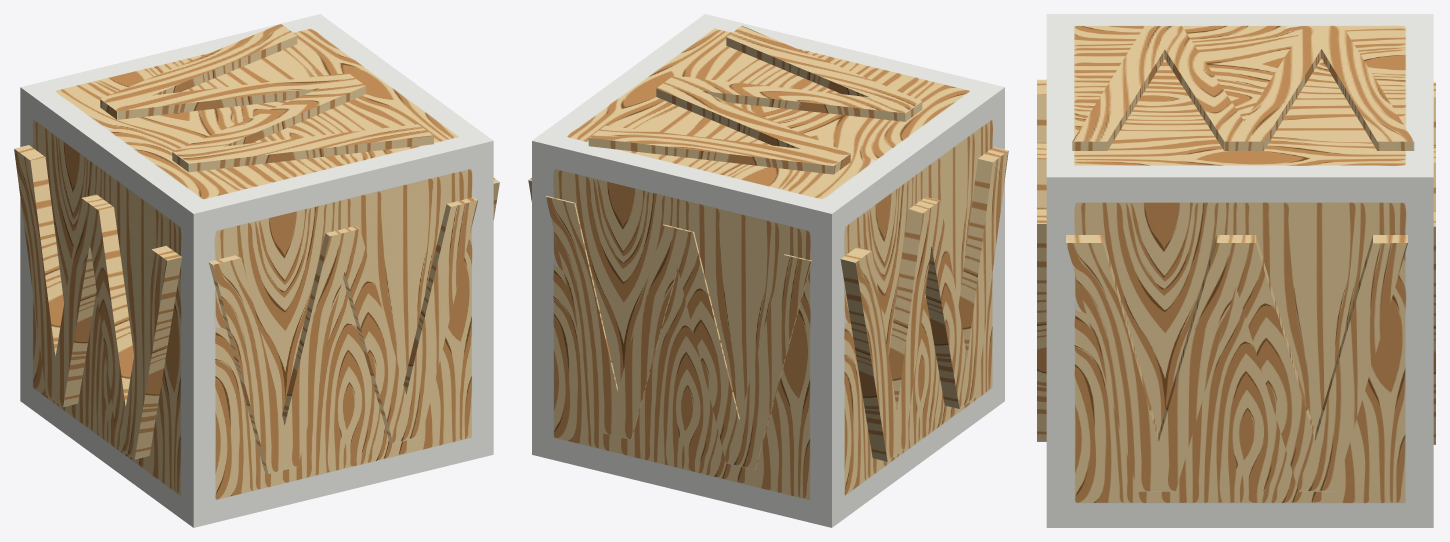
The model's file is Block W.fbx.
3 views of the same model, side by side, from view 1: azimuth 30°, elevation 25°; view 2: azimuth 150°, elevation 25°; view 3: azimuth 270°, elevation 25° (orthographic). The views are drawn at different scales.
Visible parts, largest first — view 1: Box, FRONT, LEFT, TOP; view 2: Box, LEFT, BACK, TOP; view 3: Box, RIGHT, TOP, FRONT, BACK.
Boxes of the visible parts, box(x1,y1,x2,y2) form: Box: box(20, 14, 493, 527); FRONT: box(208, 197, 477, 473); LEFT: box(14, 145, 181, 459); TOP: box(100, 23, 433, 172); Box: box(532, 14, 1004, 527); LEFT: box(840, 147, 1008, 461); BACK: box(546, 196, 811, 470); TOP: box(588, 26, 922, 174); Box: box(1046, 14, 1433, 527); RIGHT: box(1066, 235, 1407, 491); TOP: box(1072, 25, 1414, 150); FRONT: box(1037, 79, 1046, 441); BACK: box(1433, 82, 1435, 444).
Bounding box in the file's own units: 1.1 × 1.04 × 1.03.
2 materials, 2 textured.
